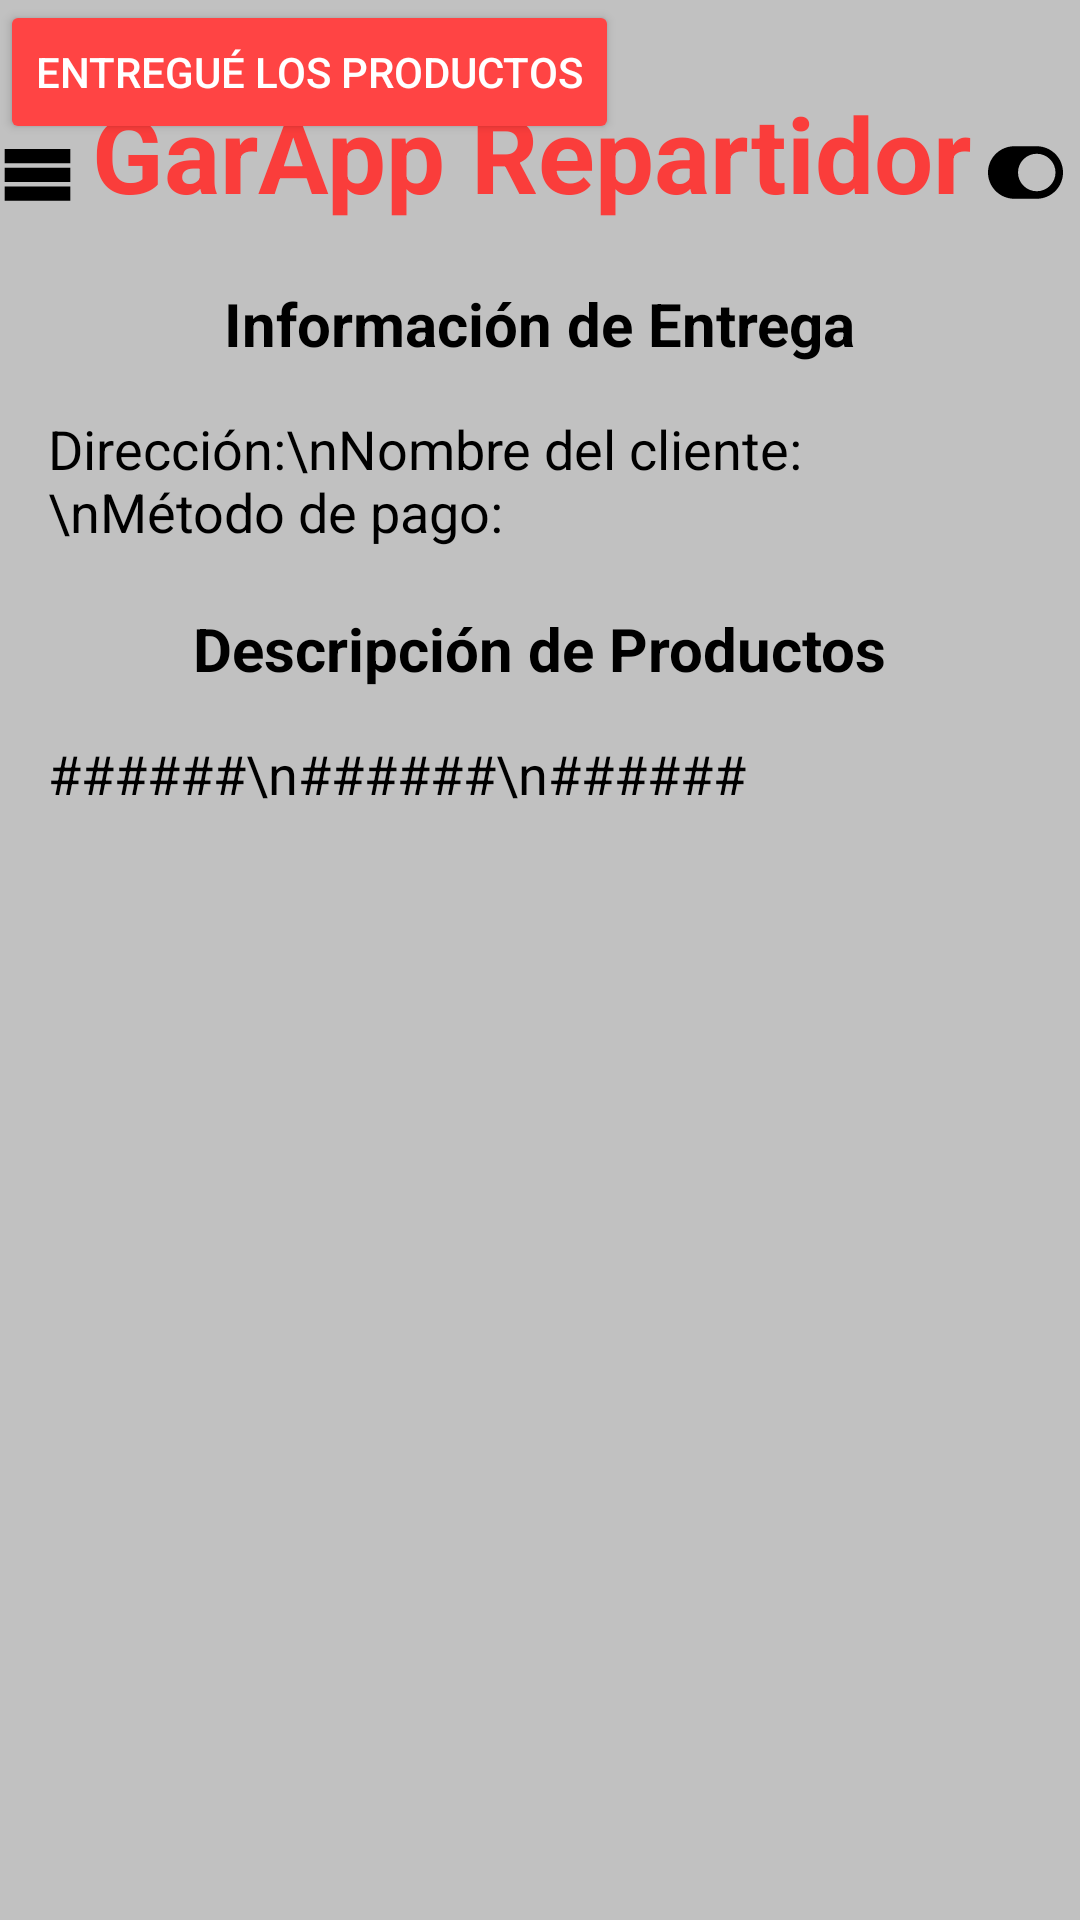

Named icons in this screenshot (1080 × 1920) and their centers, (x=x, y=y):
menu: (x=37, y=175)
switch: (x=1025, y=172)
